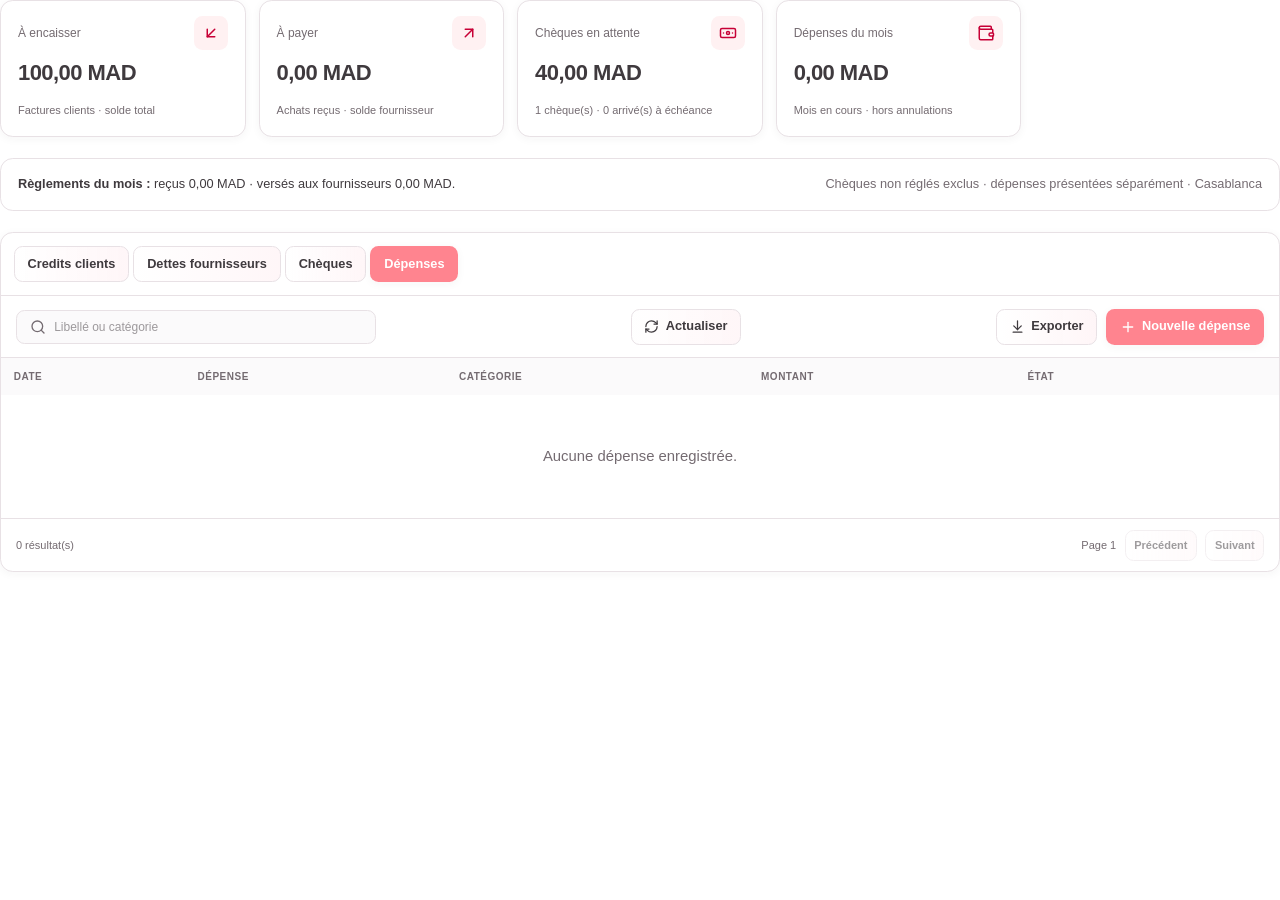
Test case: finance workflows › uses the complete report period picker before exporting expenses
Click the button "Exporter": [1047, 327] box [996,309,1097,345]
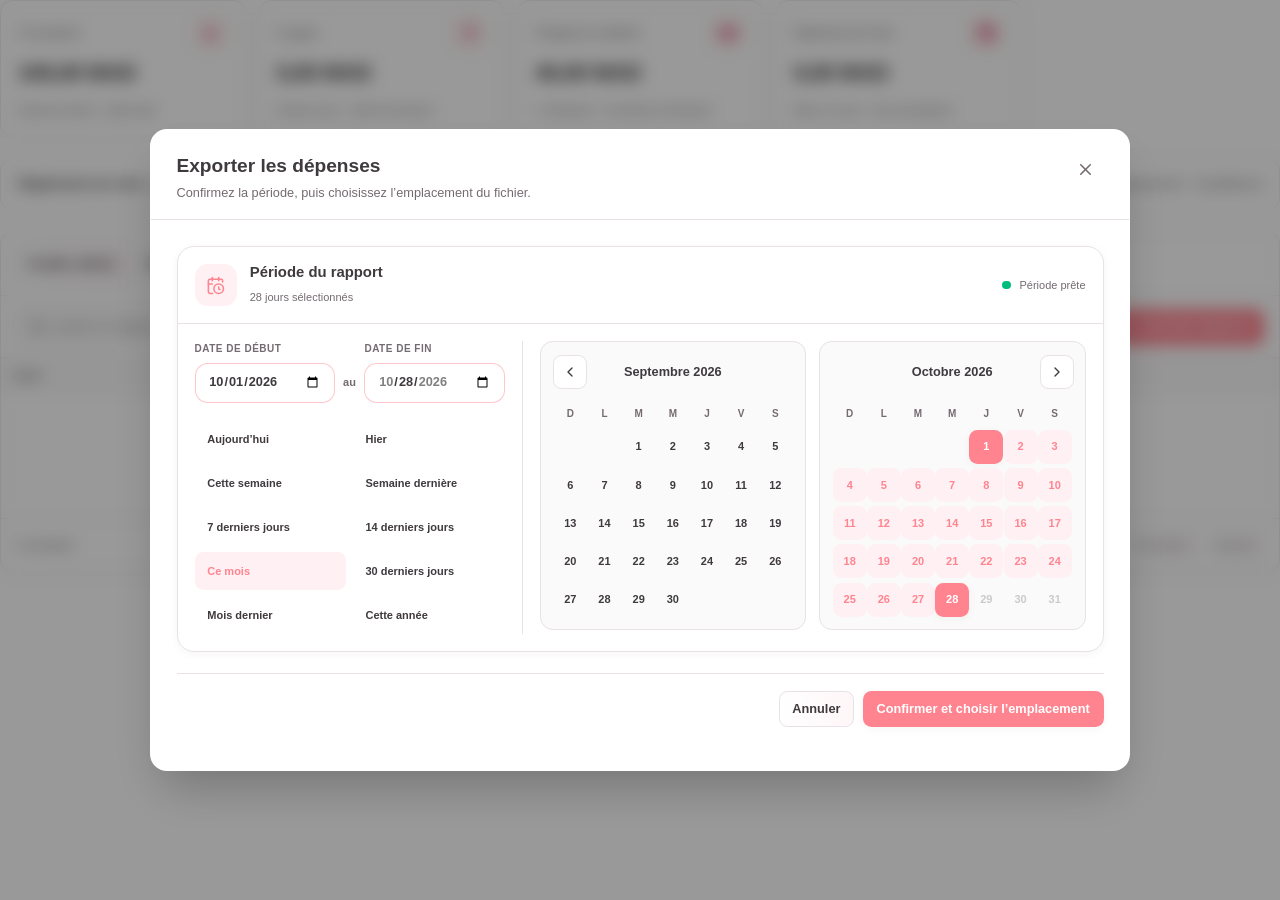
Now the dialog "Exporter les dépenses" is shown, box [150,129,1130,771]
Now the text "Période du rapport" is shown, box [250,262,383,283]
Now the button "Semaine dernière" is shown, box [353,464,504,502]
